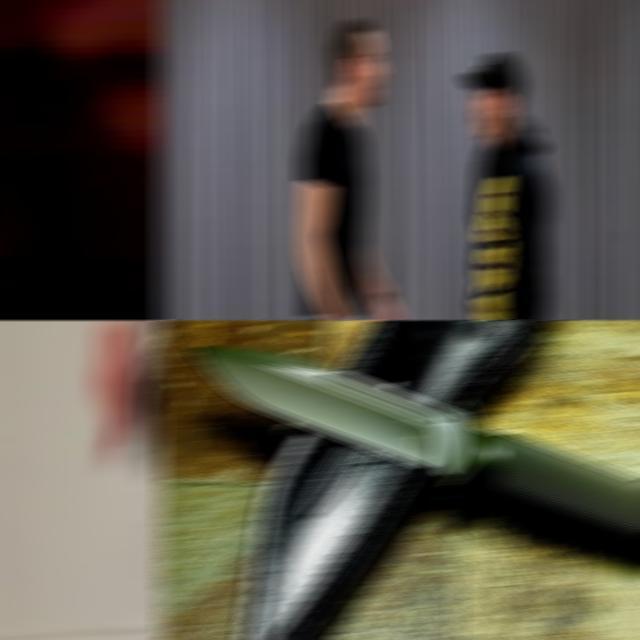Knife_Handle: (0, 0, 164, 320), (83, 320, 164, 479)
